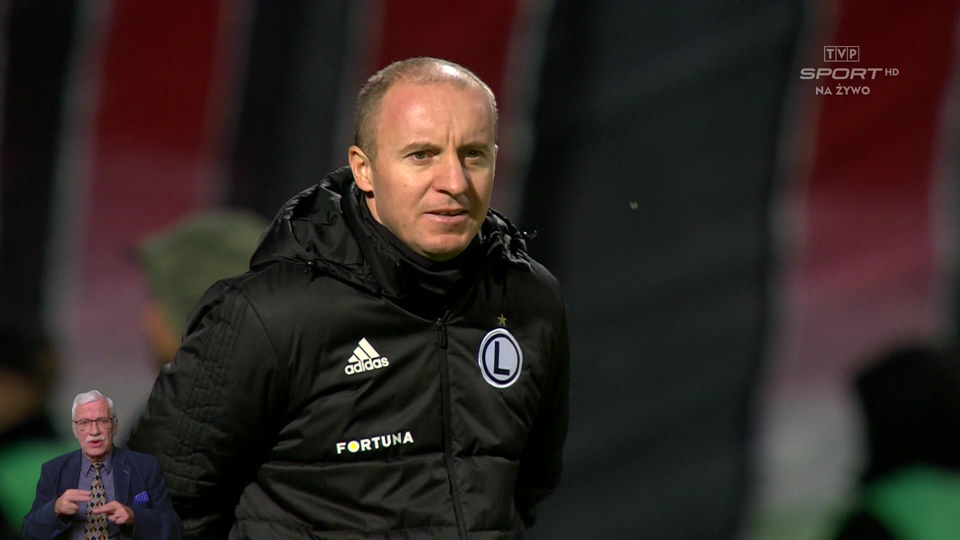Adidas: (341, 335, 392, 376)
